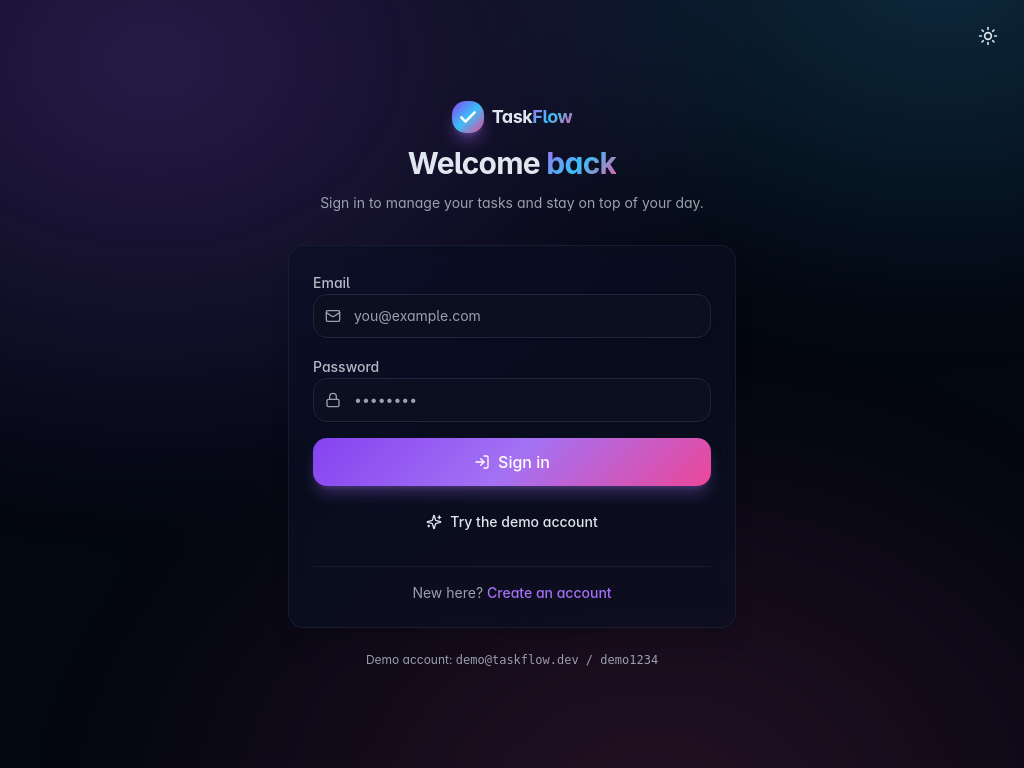
Test: LoginPage › shows a validation error for empty email
Type "something" into the password field with placeholder "••••••••".
click(512, 400); type("something")  # box [313,378,711,422]
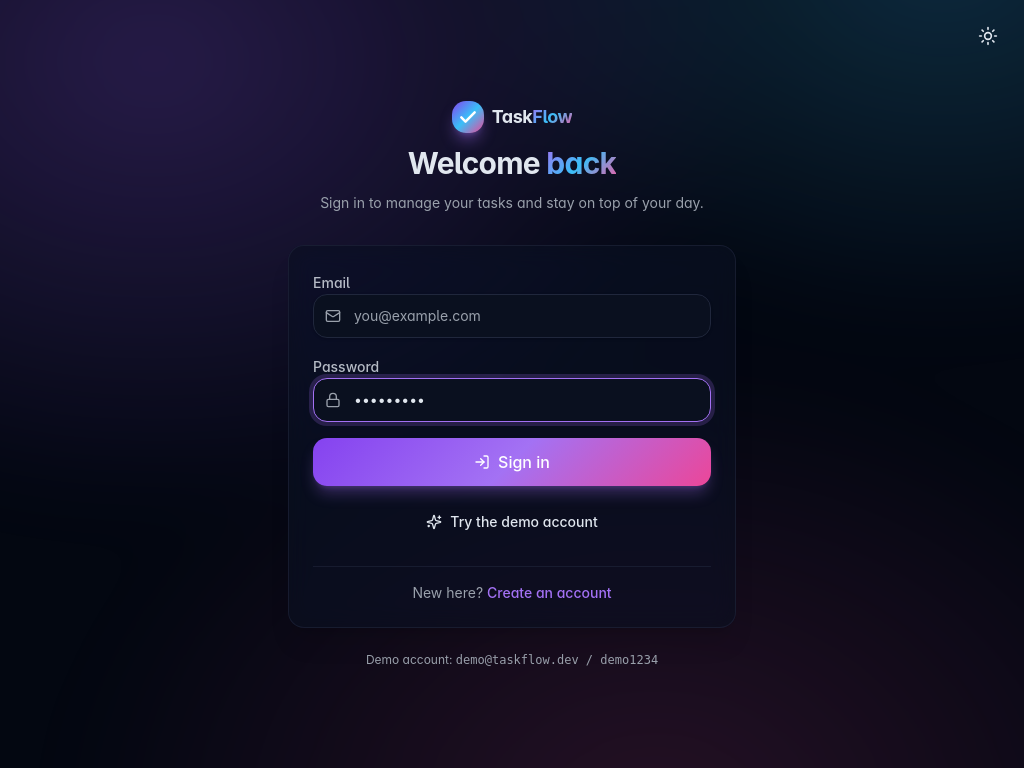
Click the button "Sign in".
click(512, 462)  # box [313,438,711,486]
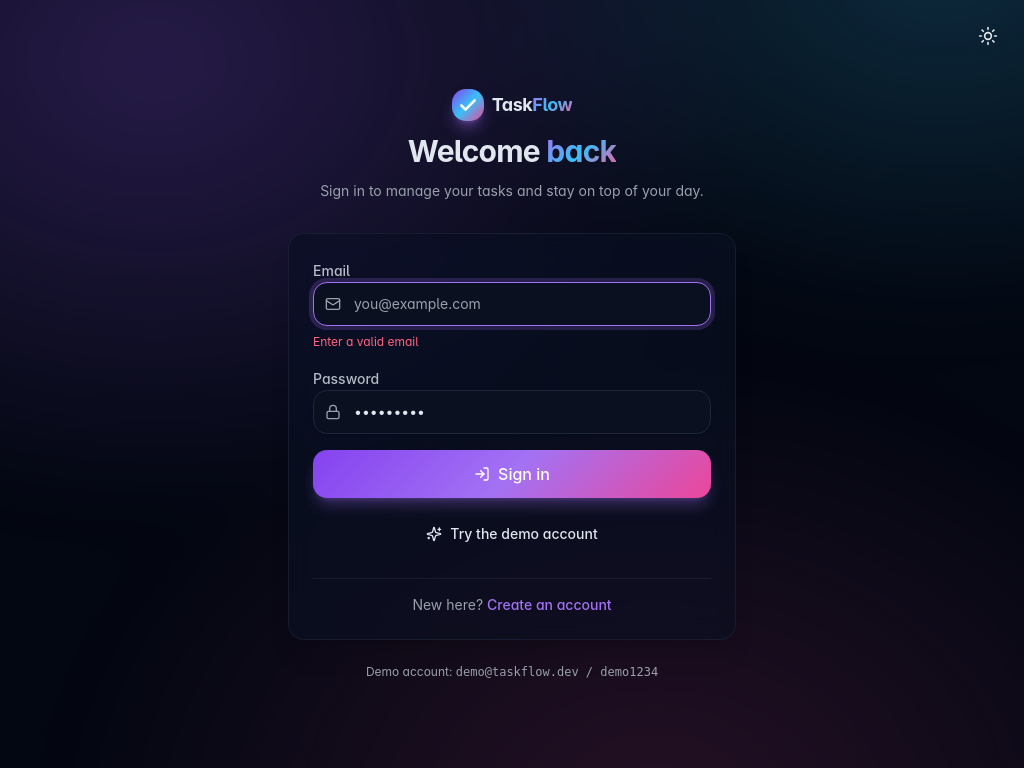
Check: the text "Enter a valid email" is shown, box [313,334,419,348]
